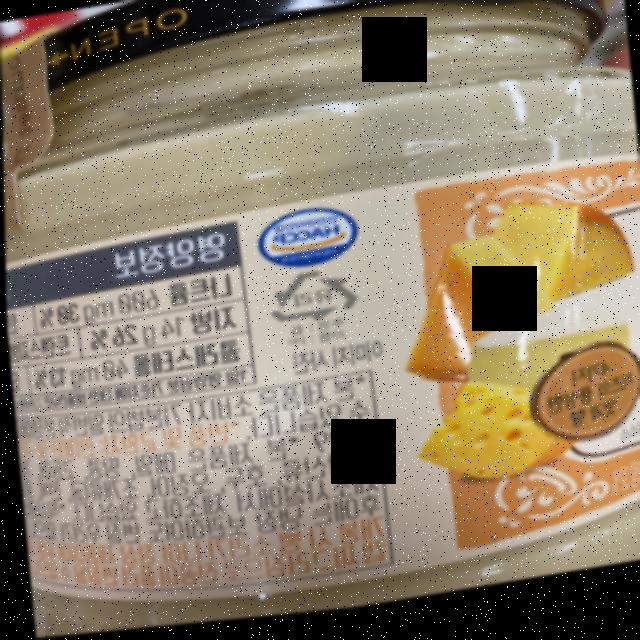Glass: (260, 267, 361, 336)
